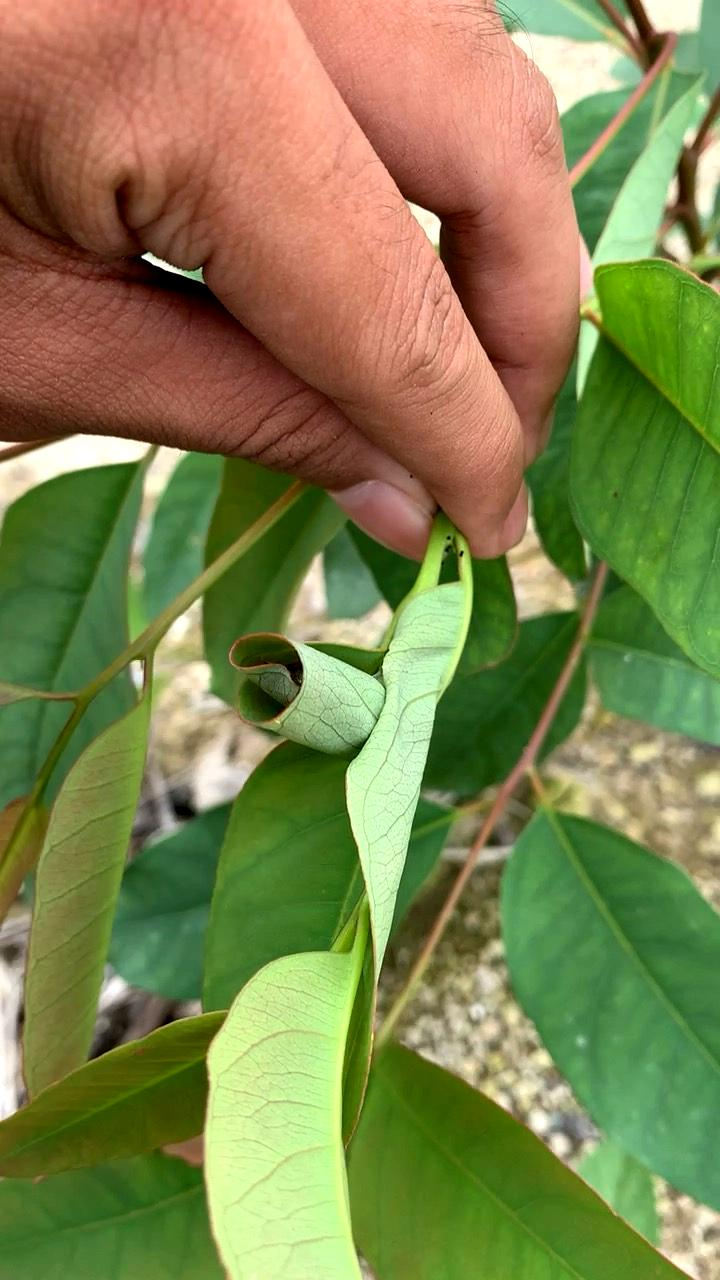Leaf Roller - Leaf: (216, 603, 431, 800)
